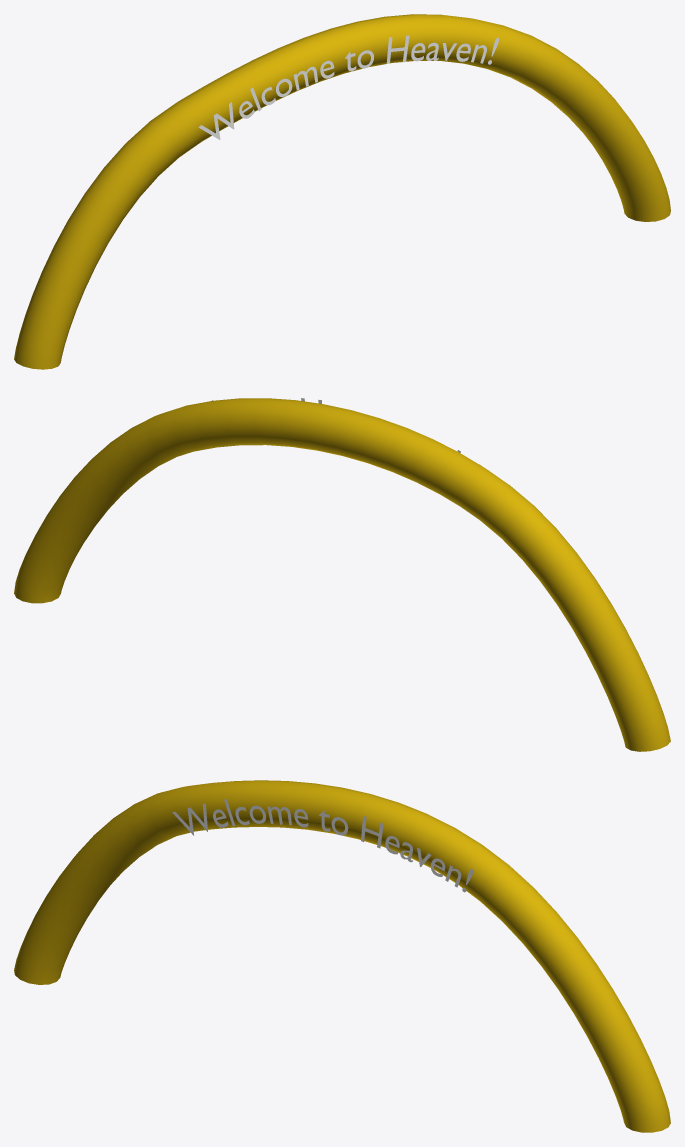
Rendered from welcometoheaven.obj.
The picture shows the model from 3 angles, top to bottom: view 1: azimuth 30°, elevation 25°; view 2: azimuth 150°, elevation 25°; view 3: azimuth 330°, elevation 25°; orthographic projection.
Parts seen in each view (by area): view 1: BézierCurve, Text; view 2: BézierCurve; view 3: BézierCurve, Text.
Part boxes in pixels (x1,y1,x2,y2): BézierCurve: (14,14,670,369); Text: (198,35,498,139); BézierCurve: (14,398,670,751); BézierCurve: (14,780,670,1132); Text: (172,799,473,892).
Bounding box in the file's own units: 31.99 × 12.22 × 2.41.
1 material, 1 textured.
